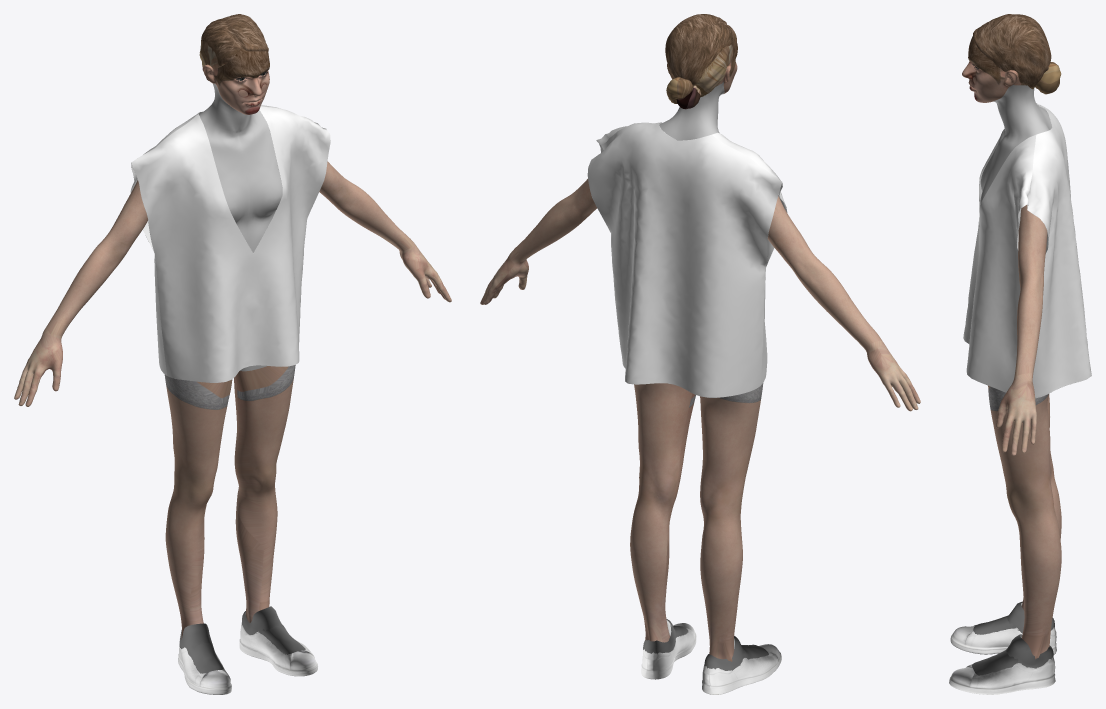
File: jamesthick.fbx
3 views of the same model, side by side, from view 1: azimuth 30°, elevation 25°; view 2: azimuth 150°, elevation 25°; view 3: azimuth 270°, elevation 25° (orthographic).
Visible parts, largest first — view 1: body, jamesthick, shoes_l_Shape, shoes_r_Shape, hair; view 2: jamesthick, body, hair, shoes_r_Shape, shoes_l_Shape; view 3: jamesthick, body, hair, shoes_l_Shape, shoes_r_Shape.
Boxes of the visible parts, x1,y1,x2,y2 form: body: (14,48,451,639); jamesthick: (130,105,330,382); shoes_l_Shape: (239,606,317,676); shoes_r_Shape: (178,623,231,694); hair: (199,14,268,80); jamesthick: (587,122,787,397); body: (480,43,920,661); hair: (665,14,736,109); shoes_r_Shape: (702,636,781,694); shoes_l_Shape: (641,619,696,679); jamesthick: (963,103,1091,398); body: (962,36,1061,659); hair: (973,14,1061,94); shoes_l_Shape: (949,634,1055,694); shoes_r_Shape: (950,601,1056,654).
Bounding box in the file's own units: 1239 × 1789 × 356.
